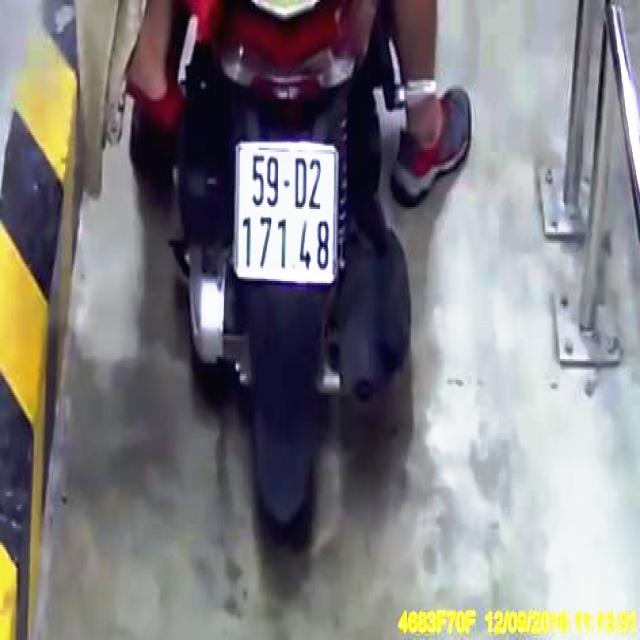license_plate: (236, 146, 339, 283)
